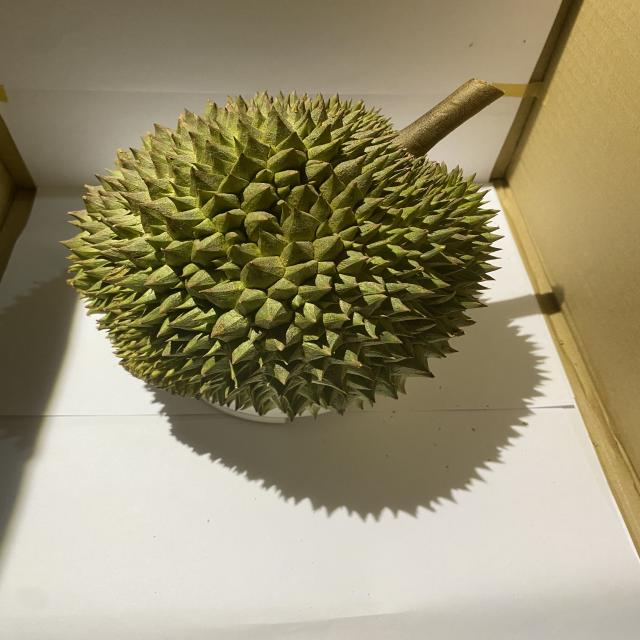immature: (53, 90, 506, 422)
